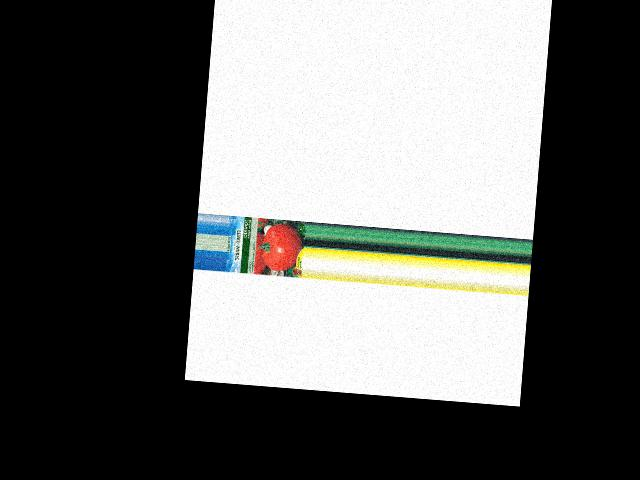tomato: (261, 222, 304, 272)
